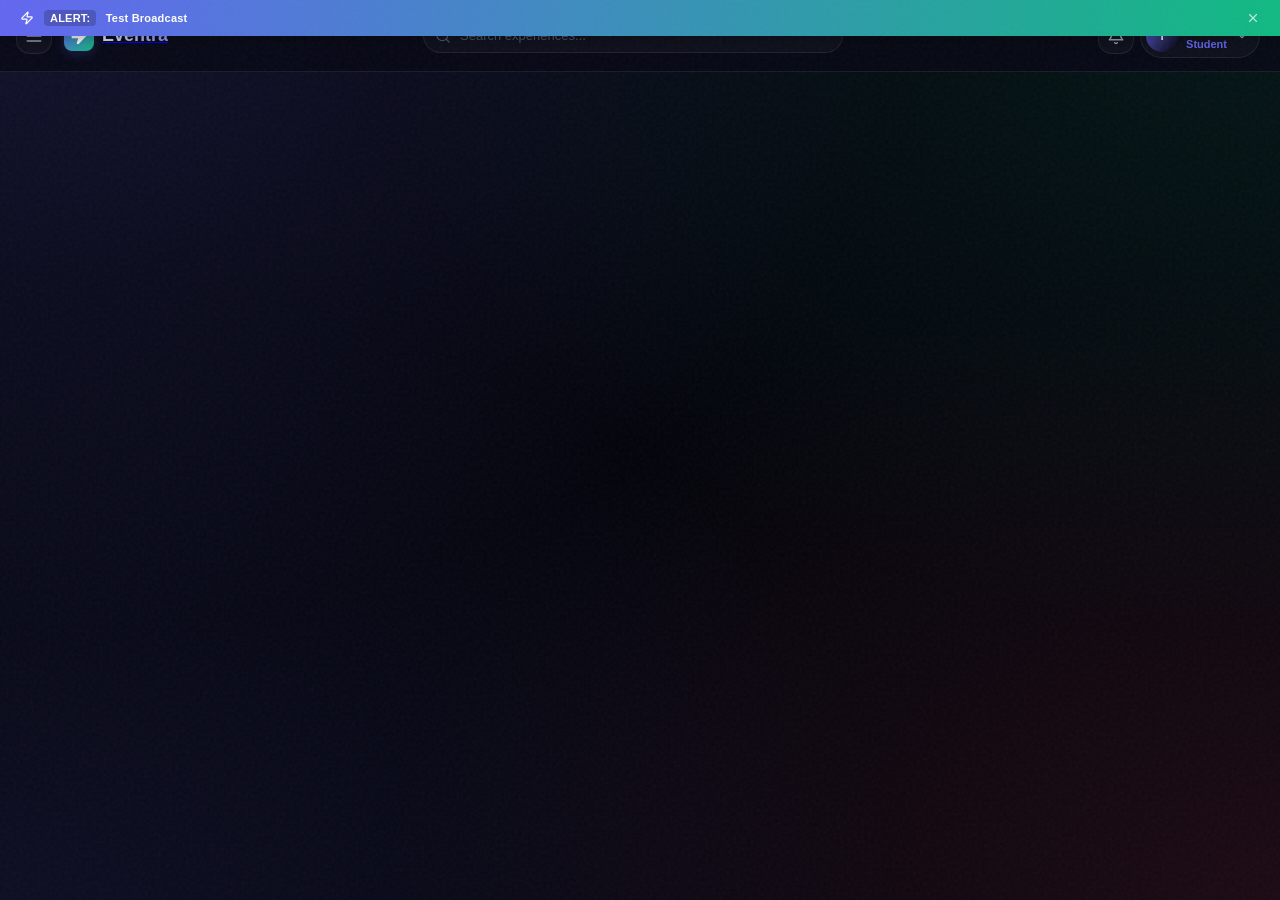
Test: Navbar Component › closes the banner when close button is clicked
The width and height of the screenshot is (1280, 900).
Check: the text "Alert: Test Broadcast" is shown, box x1=44 y1=12 x2=188 y2=24
Click the button named "Close broadcast banner". click: coordinates (1253, 18)
box: x1=1246 y1=11 x2=1260 y2=25
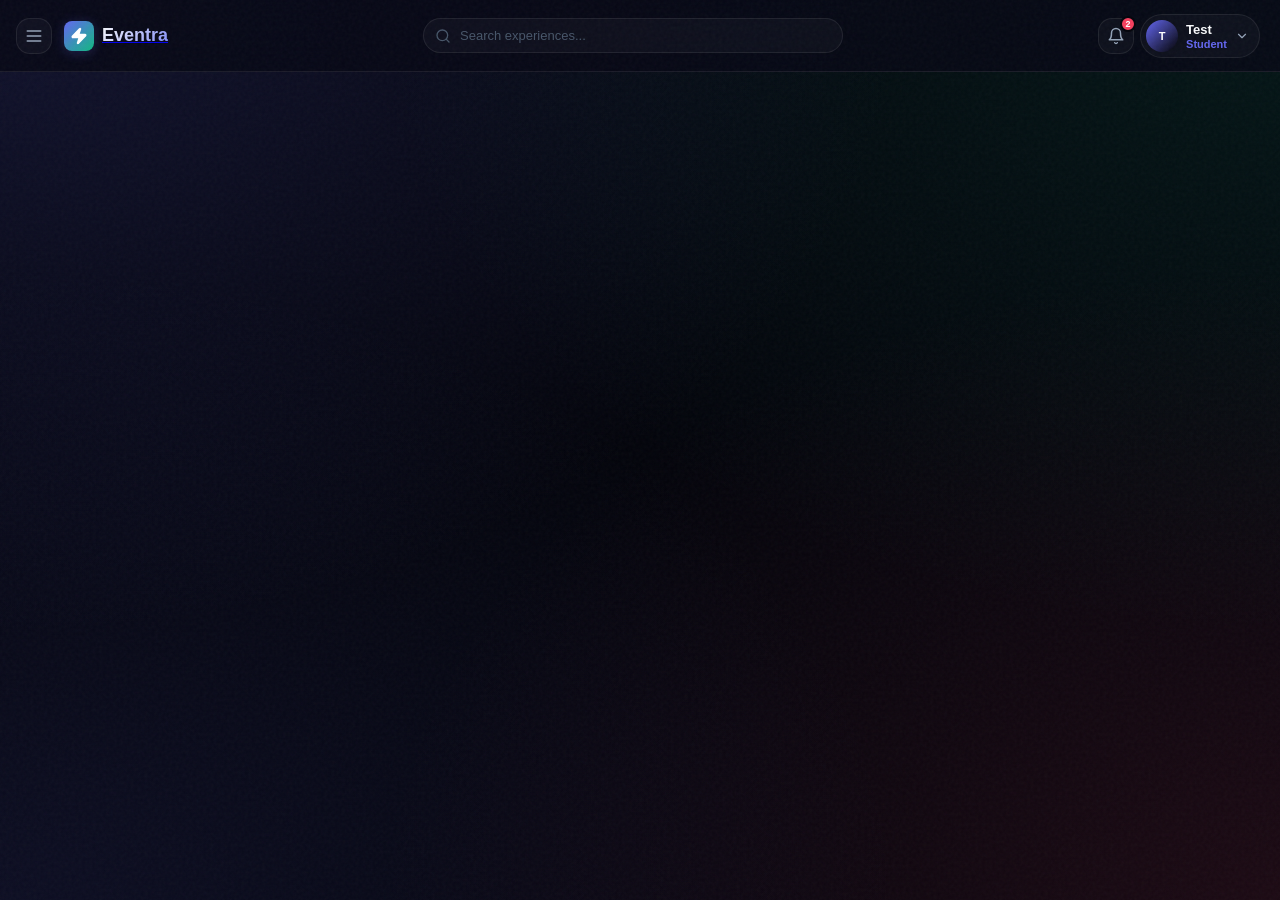
Check: the text "Test Broadcast" is gone
